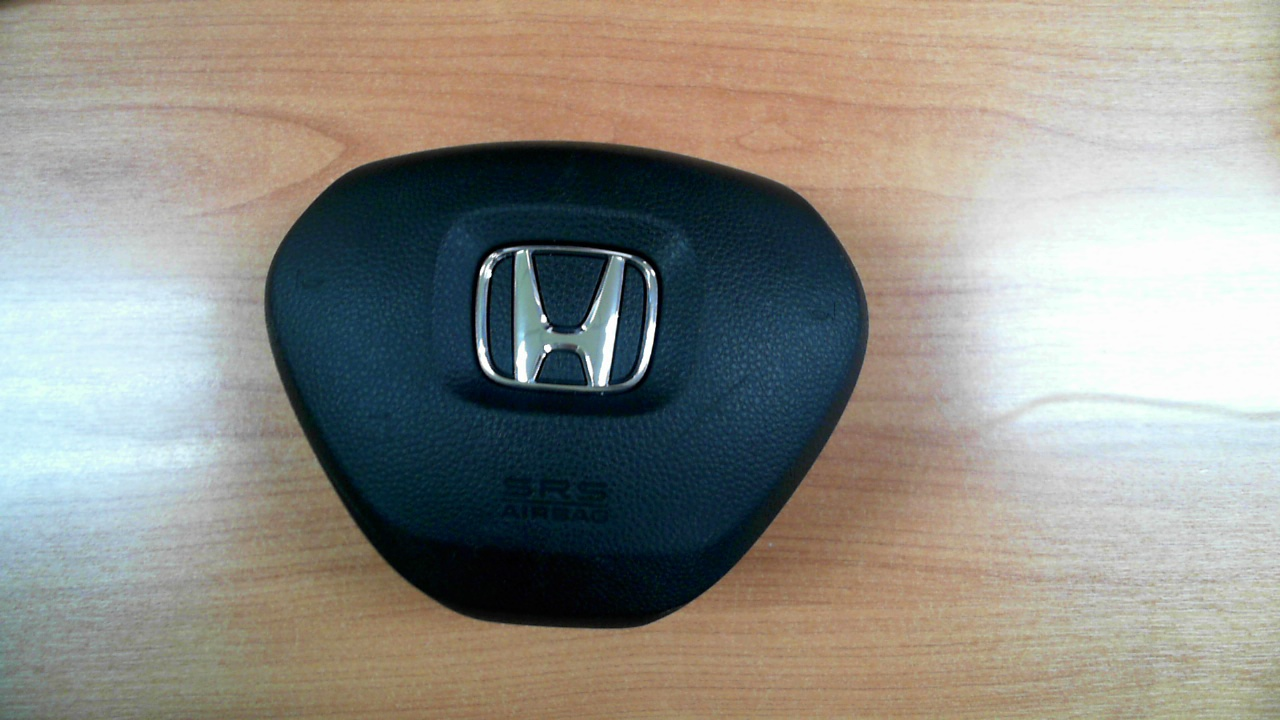Airbag: (264, 139, 869, 629)
Honda: (474, 244, 659, 395)
